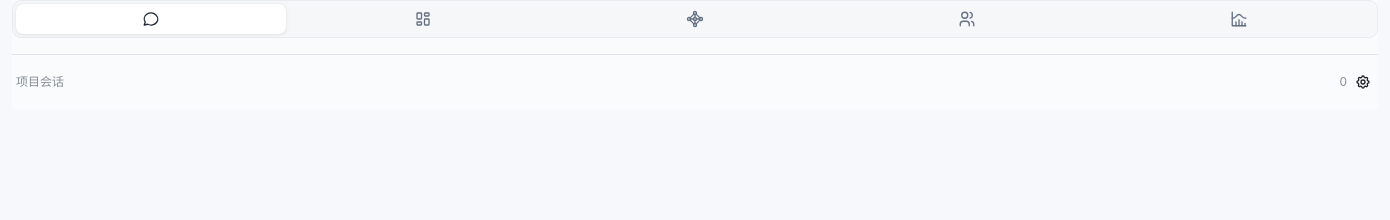
Test case: Sidebar project catalog wiring › combines equal model names across providers and sorts by combined tokens
Hover over the link named "统计" at (1239, 19), box [1230,10,1248,28]
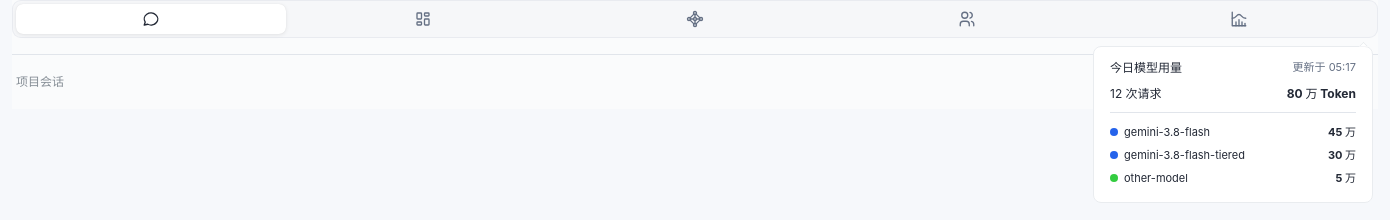
Now the text "80 万 Token" is shown, box [1287,85,1356,104]
Now the text "gemini-3.8-flash" is shown once, box [1124,124,1210,141]
Now the text "12 次请求" is shown, box [1110,85,1162,104]
